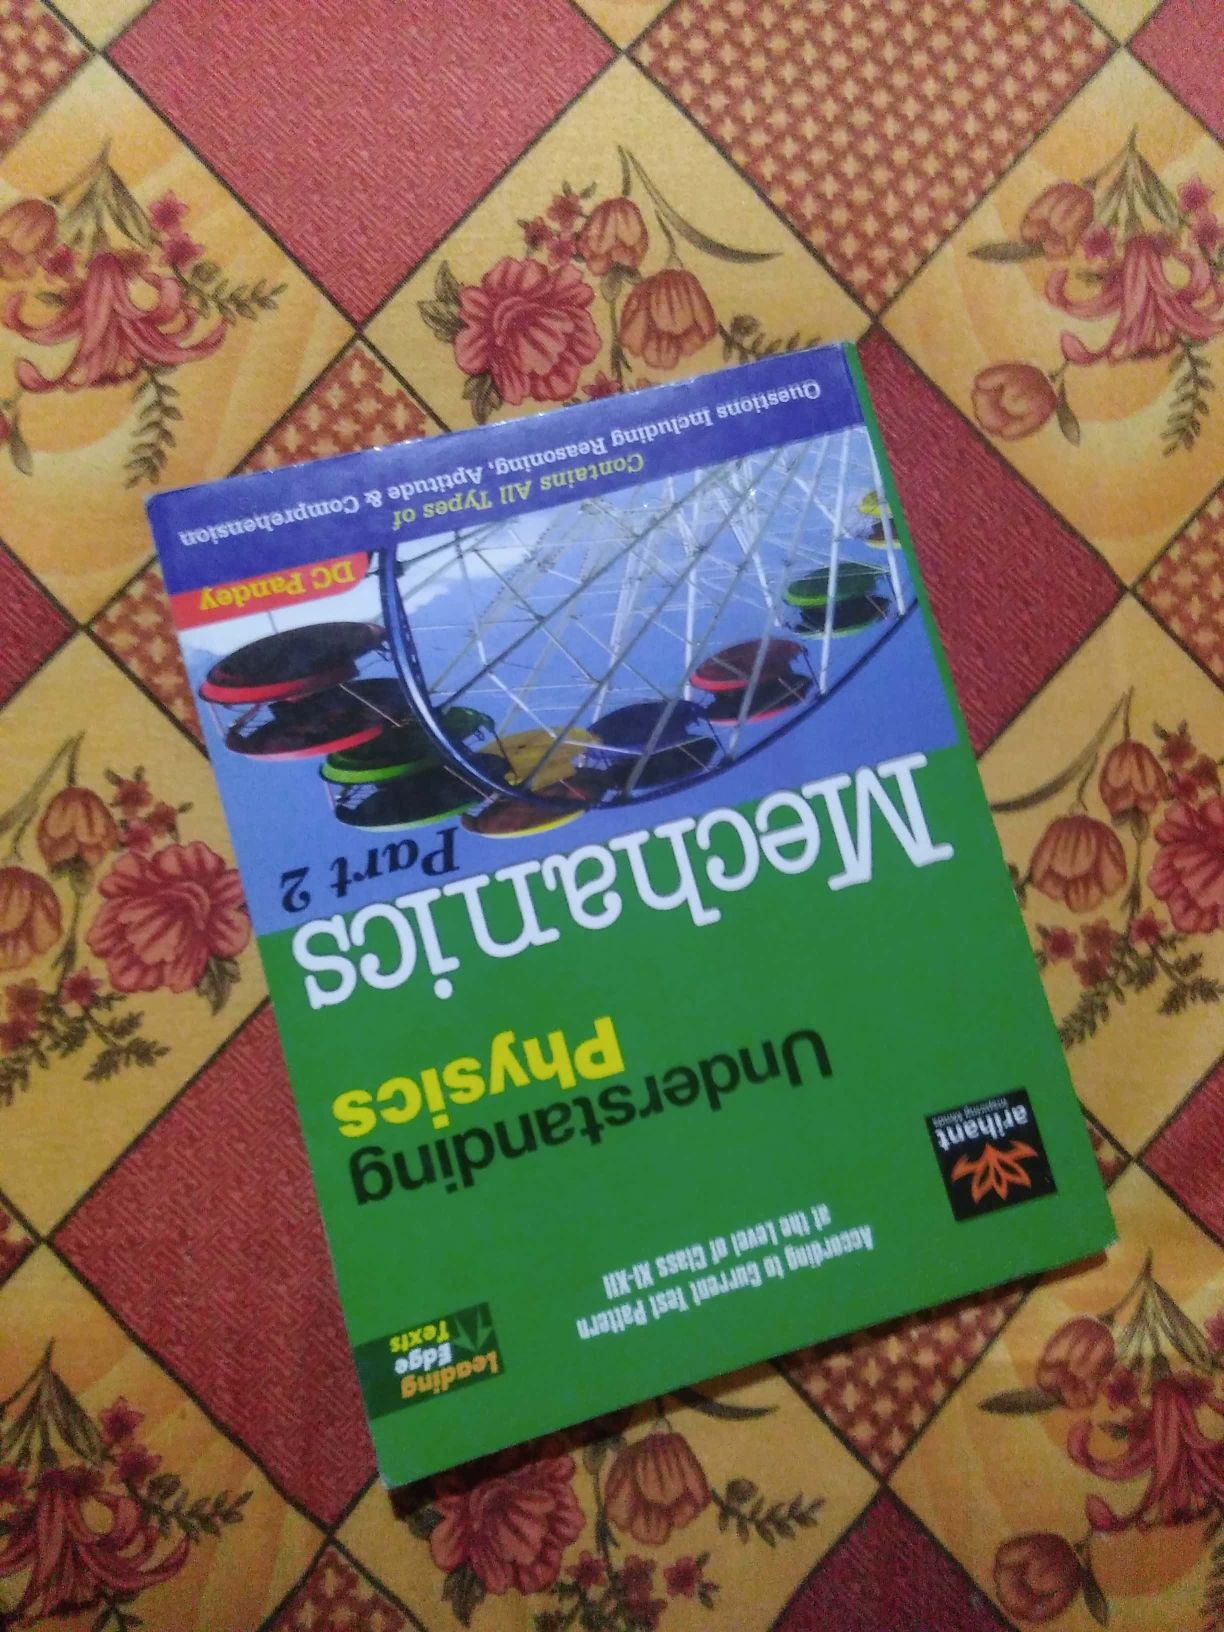mechanics: (129, 370, 1178, 1462)
